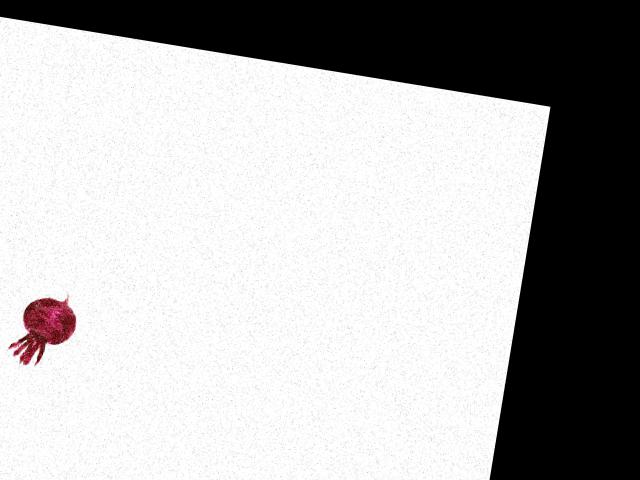beet: (6, 283, 81, 372)
